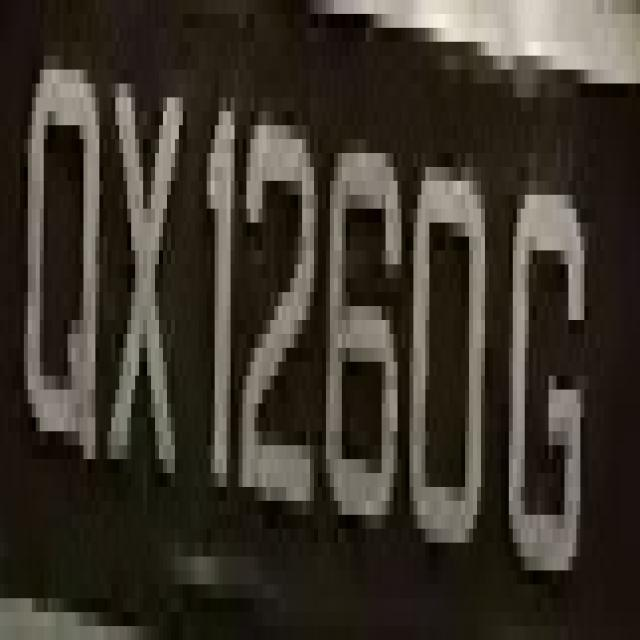0: (401, 111, 493, 556)
1: (210, 84, 242, 528)
2: (246, 55, 322, 542)
6: (322, 70, 401, 570)
G: (509, 153, 592, 612)
Q: (20, 28, 111, 501)
X: (111, 56, 179, 487)
